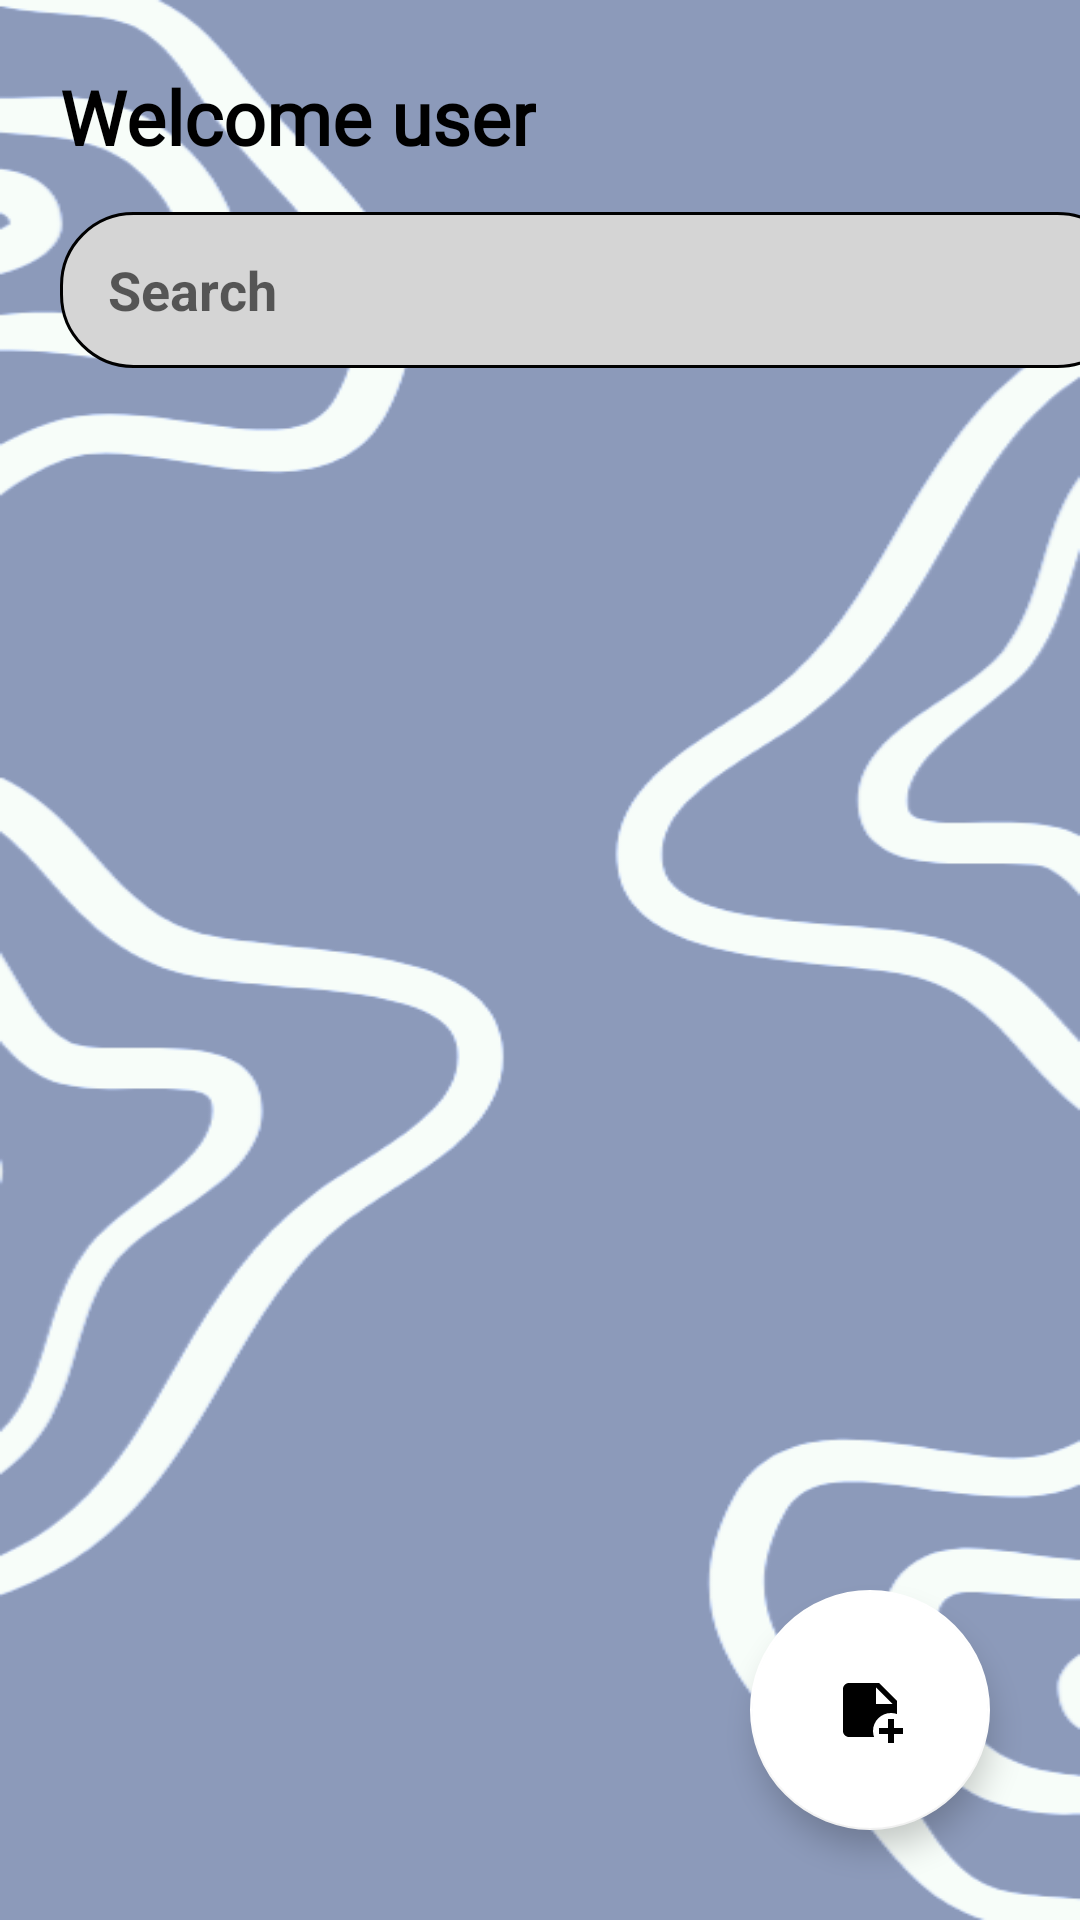

Screen size 1080 × 1920. Icon name, then its center in pixels as point (x, y):
noteplus: point (870, 1710)
